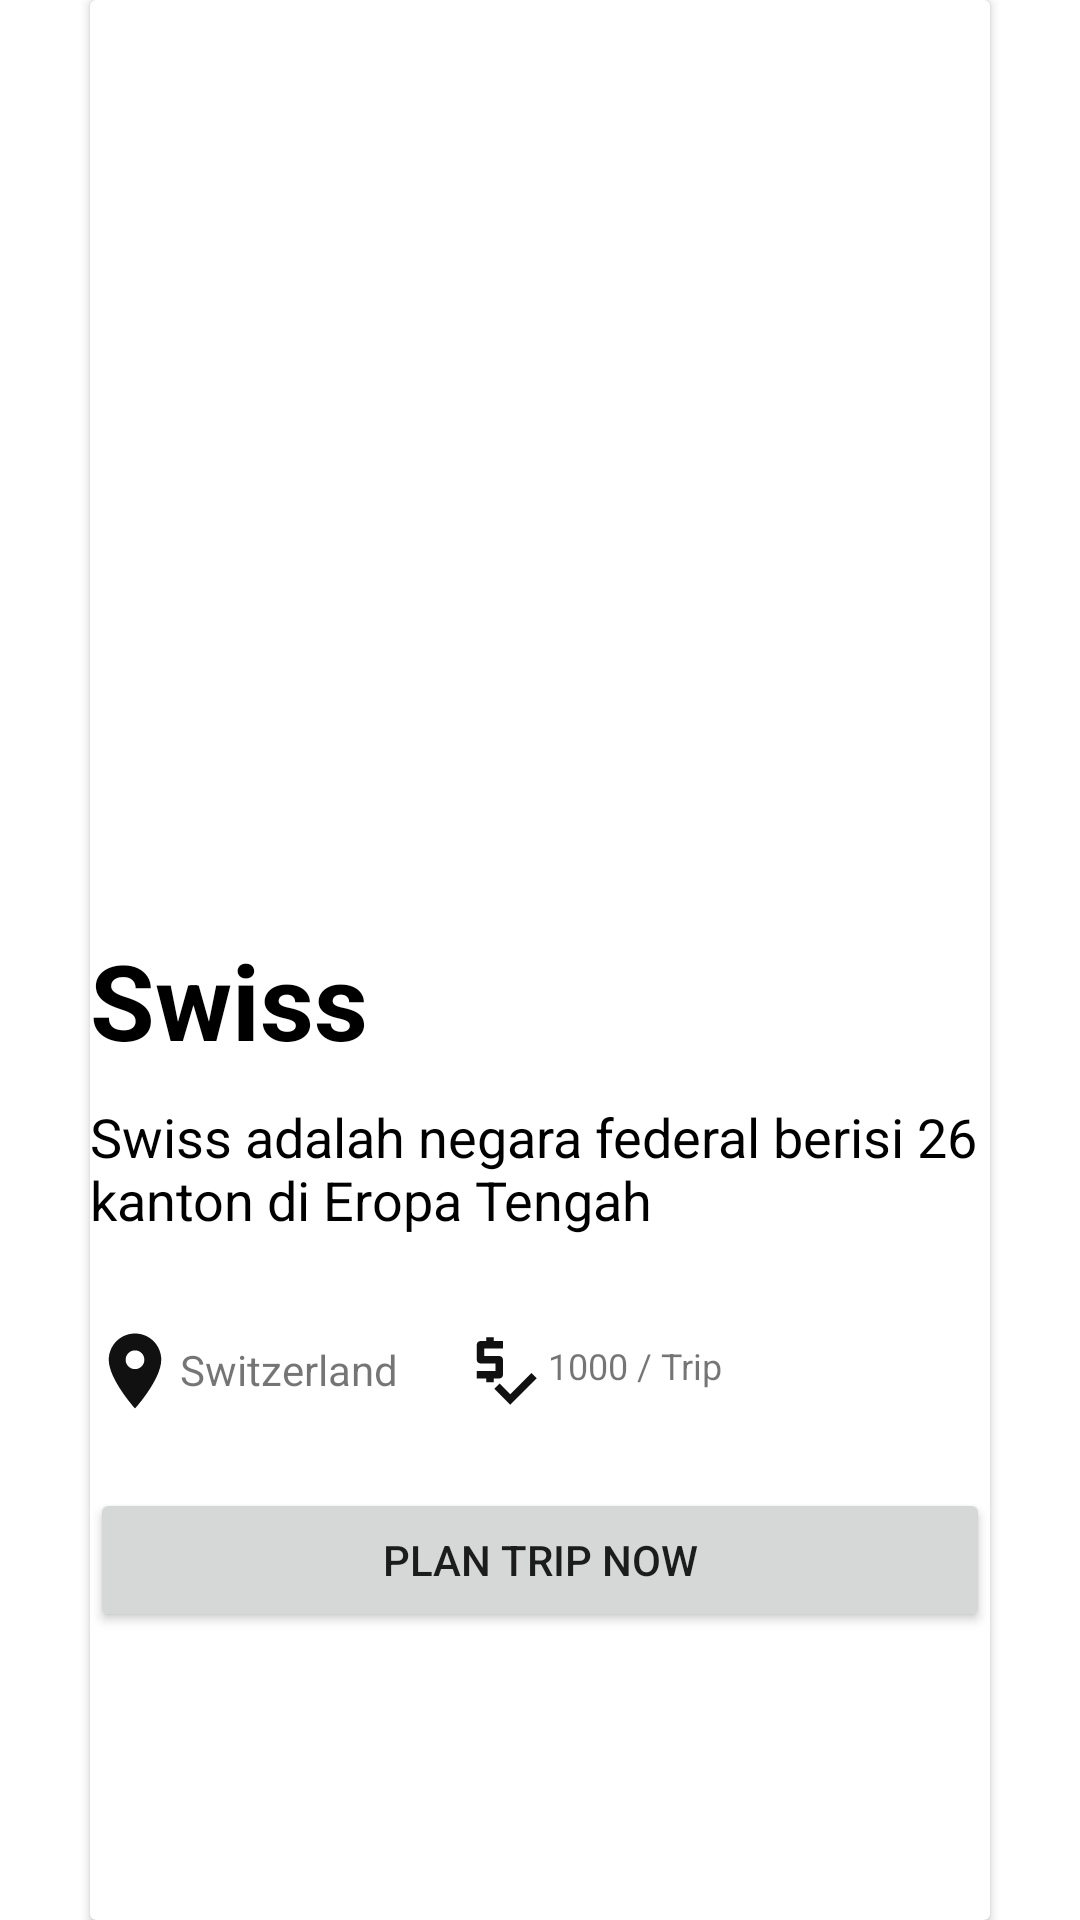

Icons on this 1080px x 1920px Android screen, each with the point to tap as (x=x, y=y):
location on: (x=135, y=1370)
price check: (x=506, y=1371)
